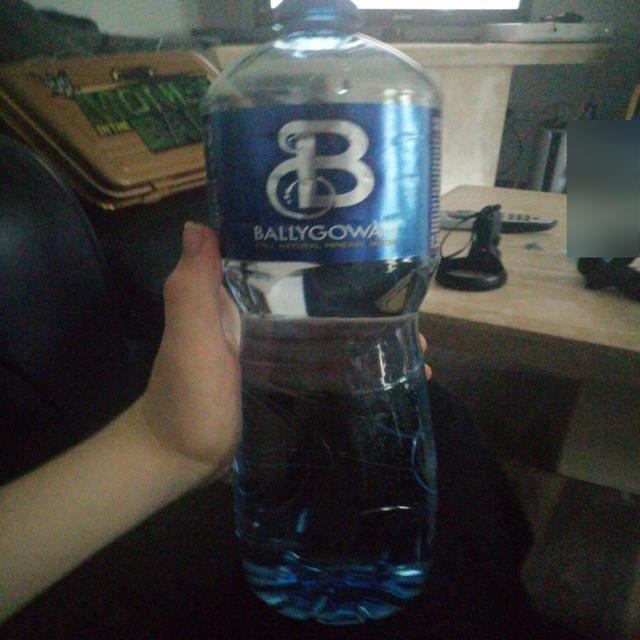plastic bottle: (203, 0, 443, 629)
